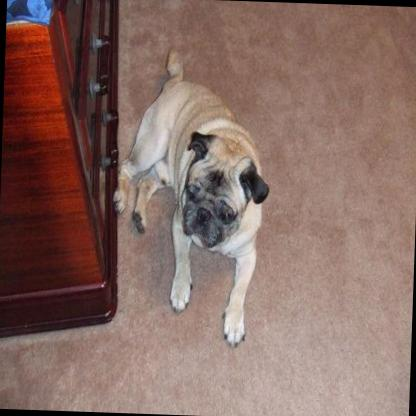pug: (107, 43, 274, 350)
